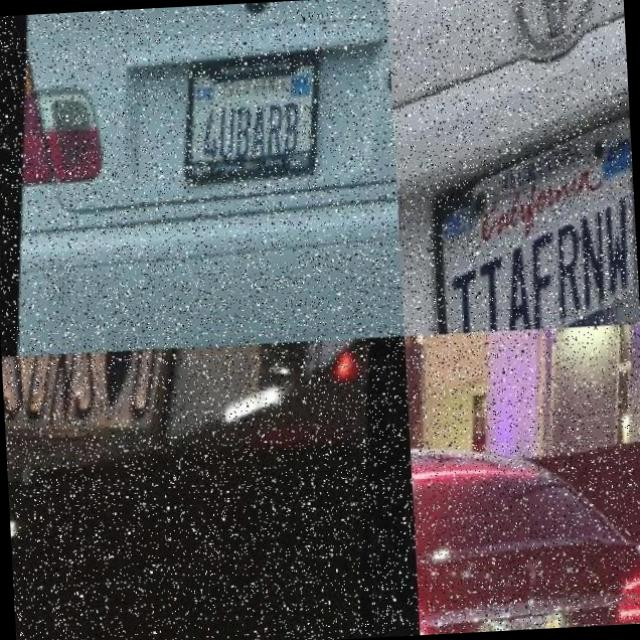LicensePlate: (438, 117, 640, 333), (1, 348, 188, 488), (185, 56, 326, 186), (494, 615, 568, 631)
